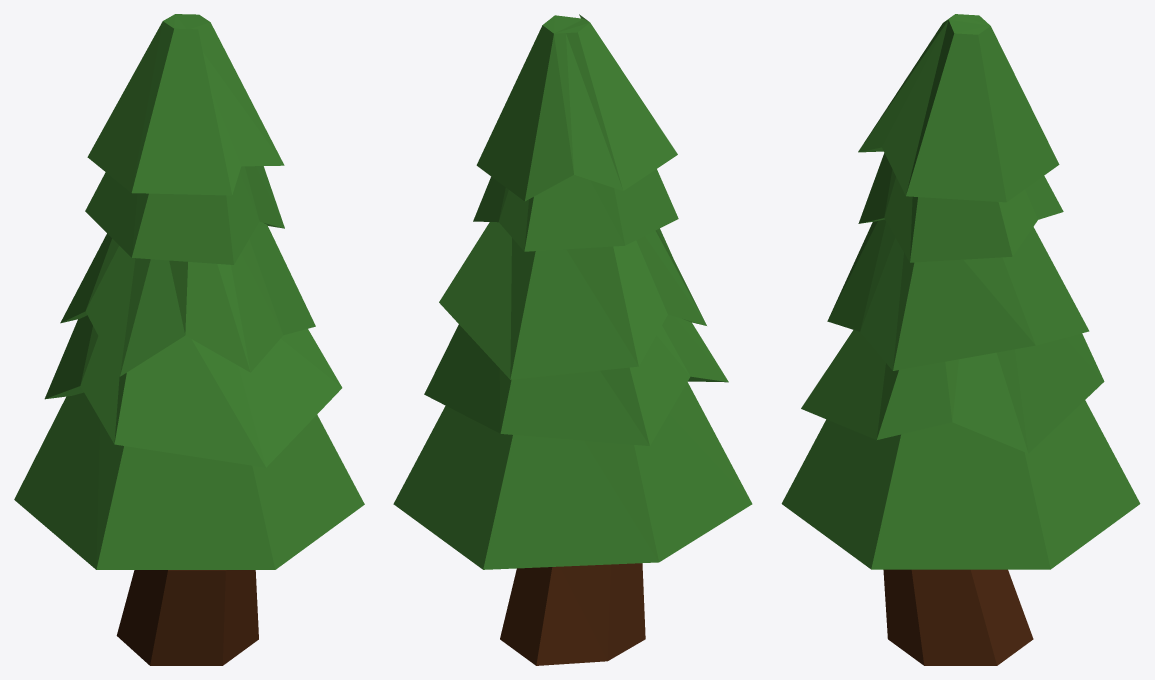
The model's file is forest-tree-conifer-simple.glb.
The picture shows the model from 3 angles, left to right: view 1: azimuth 30°, elevation 25°; view 2: azimuth 150°, elevation 25°; view 3: azimuth 270°, elevation 25°; orthographic projection.
Parts seen in each view (by area): view 1: Cylinder.002, Cylinder.003, Cylinder.006, Cylinder.004, Cylinder.001, Cylinder.005; view 2: Cylinder.002, Cylinder.004, Cylinder.006, Cylinder.003, Cylinder.001, Cylinder.005; view 3: Cylinder.002, Cylinder.004, Cylinder.006, Cylinder.003, Cylinder.001, Cylinder.005.
Boxes of the visible parts, x1,y1,x2,y2 form: Cylinder.002: [14, 392, 364, 569]; Cylinder.003: [44, 315, 342, 467]; Cylinder.006: [87, 14, 284, 195]; Cylinder.004: [60, 221, 315, 376]; Cylinder.001: [116, 570, 258, 665]; Cylinder.005: [85, 166, 284, 264]; Cylinder.002: [393, 382, 752, 569]; Cylinder.004: [439, 222, 706, 379]; Cylinder.006: [476, 14, 677, 201]; Cylinder.003: [424, 314, 728, 445]; Cylinder.001: [500, 563, 645, 665]; Cylinder.005: [473, 169, 678, 251]; Cylinder.002: [781, 400, 1140, 569]; Cylinder.004: [827, 219, 1089, 370]; Cylinder.006: [858, 14, 1059, 202]; Cylinder.003: [801, 330, 1104, 453]; Cylinder.001: [883, 569, 1033, 665]; Cylinder.005: [858, 153, 1063, 262].
Size of the model in its own units: 1.46 by 3.2 by 1.68.
